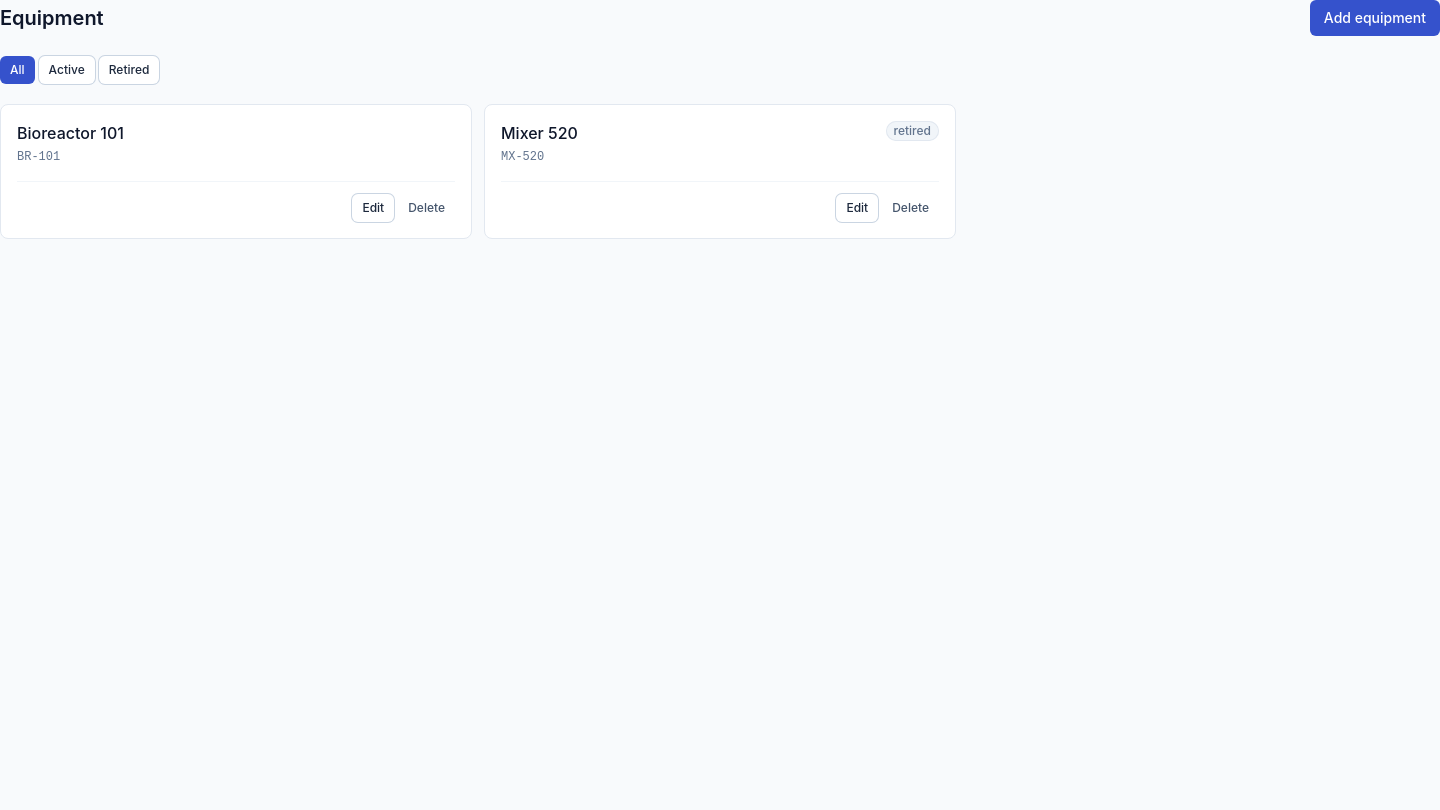
Test: EquipmentListPage › creates equipment and refreshes the list
Expected: the link "Bioreactor 101" is shown, [17,121,124,145]
Step 1. Click the button "Add equipment" → (1375, 18), box [1310,0,1439,36]
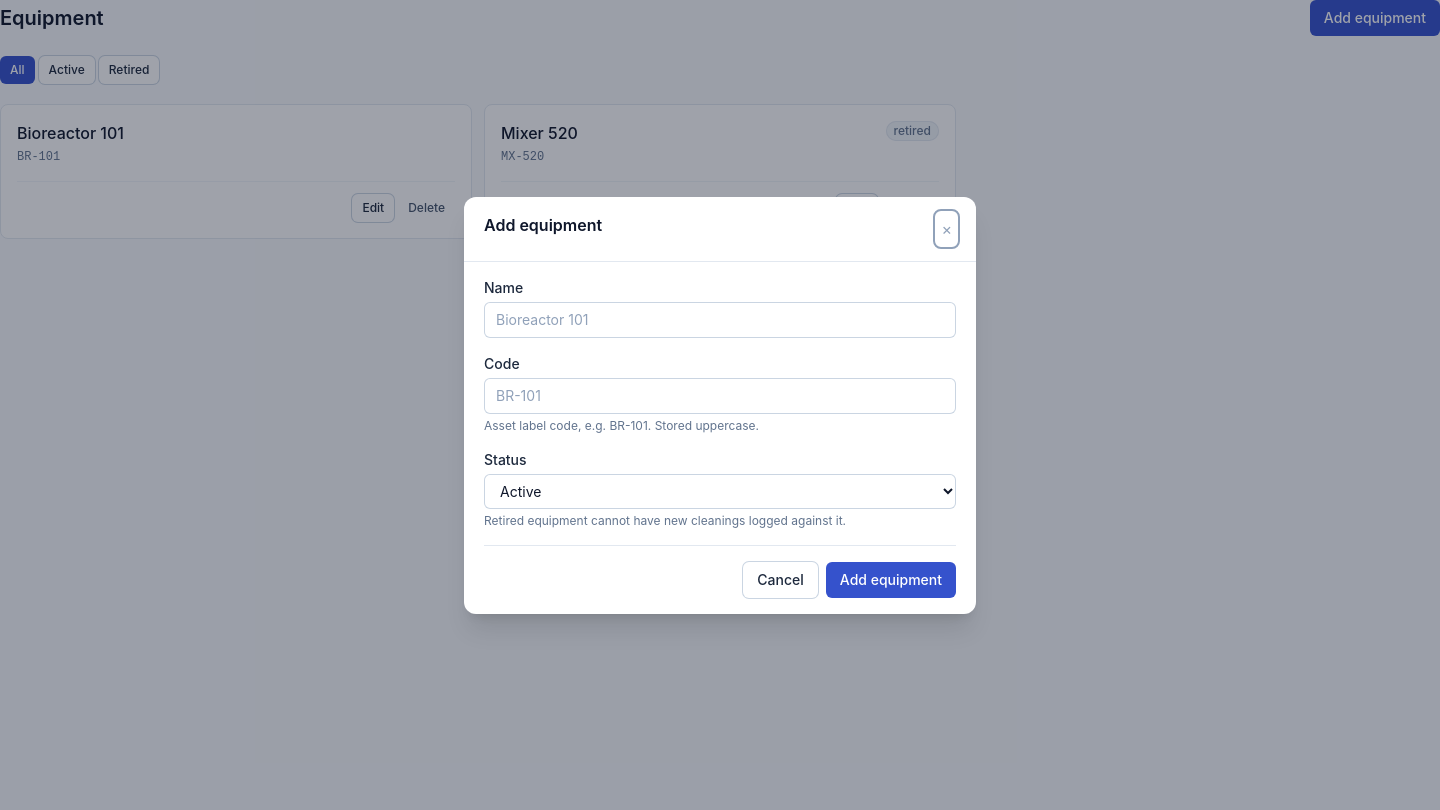
Step 2. Type "Centrifuge 200" into the field labelled "Name" → (720, 320), box [484,302,956,338]
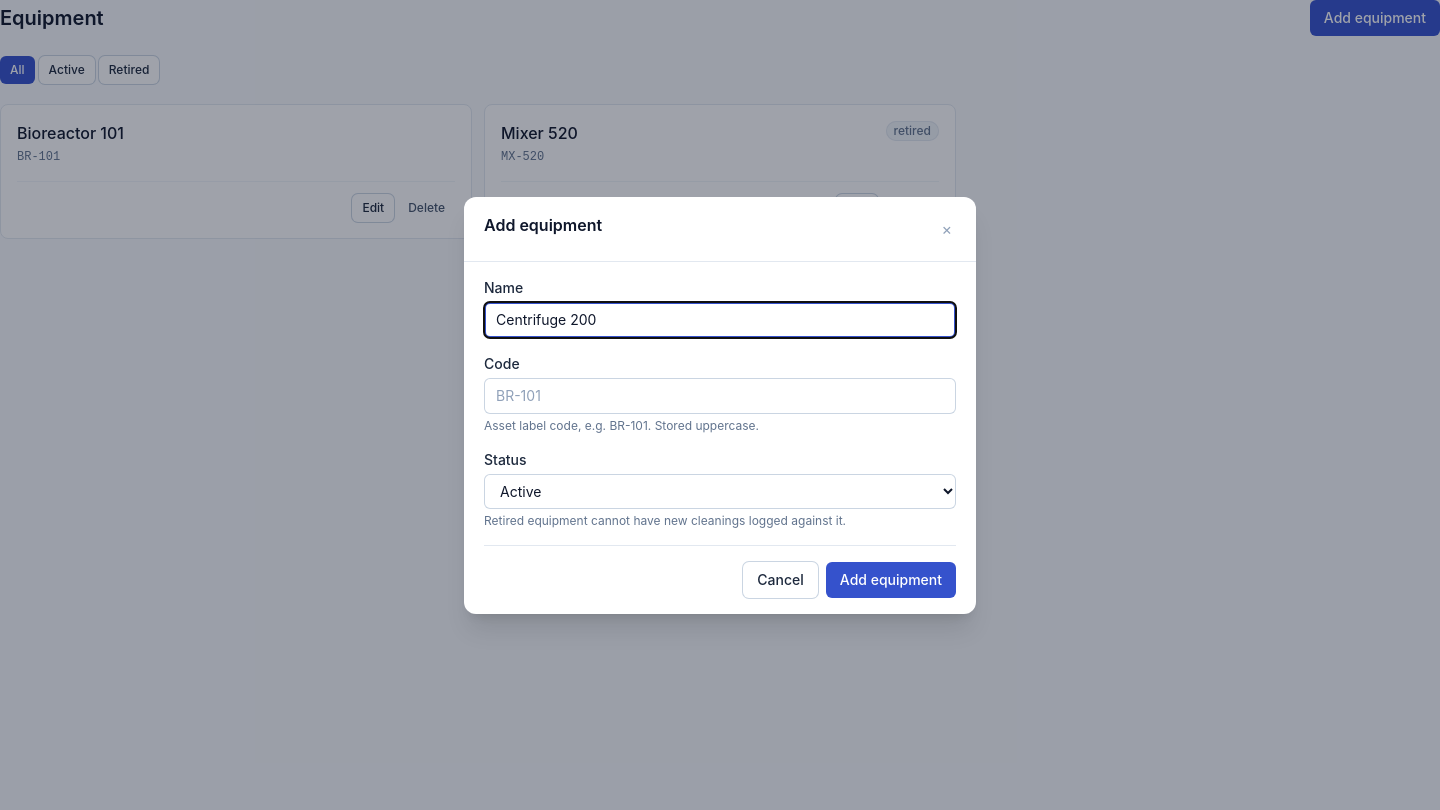
// Typed lowercase deliberately: the schema uppercases it before sending.
Step 3. Type "cf-200" into the field labelled "Code" → (720, 396), box [484,378,956,414]
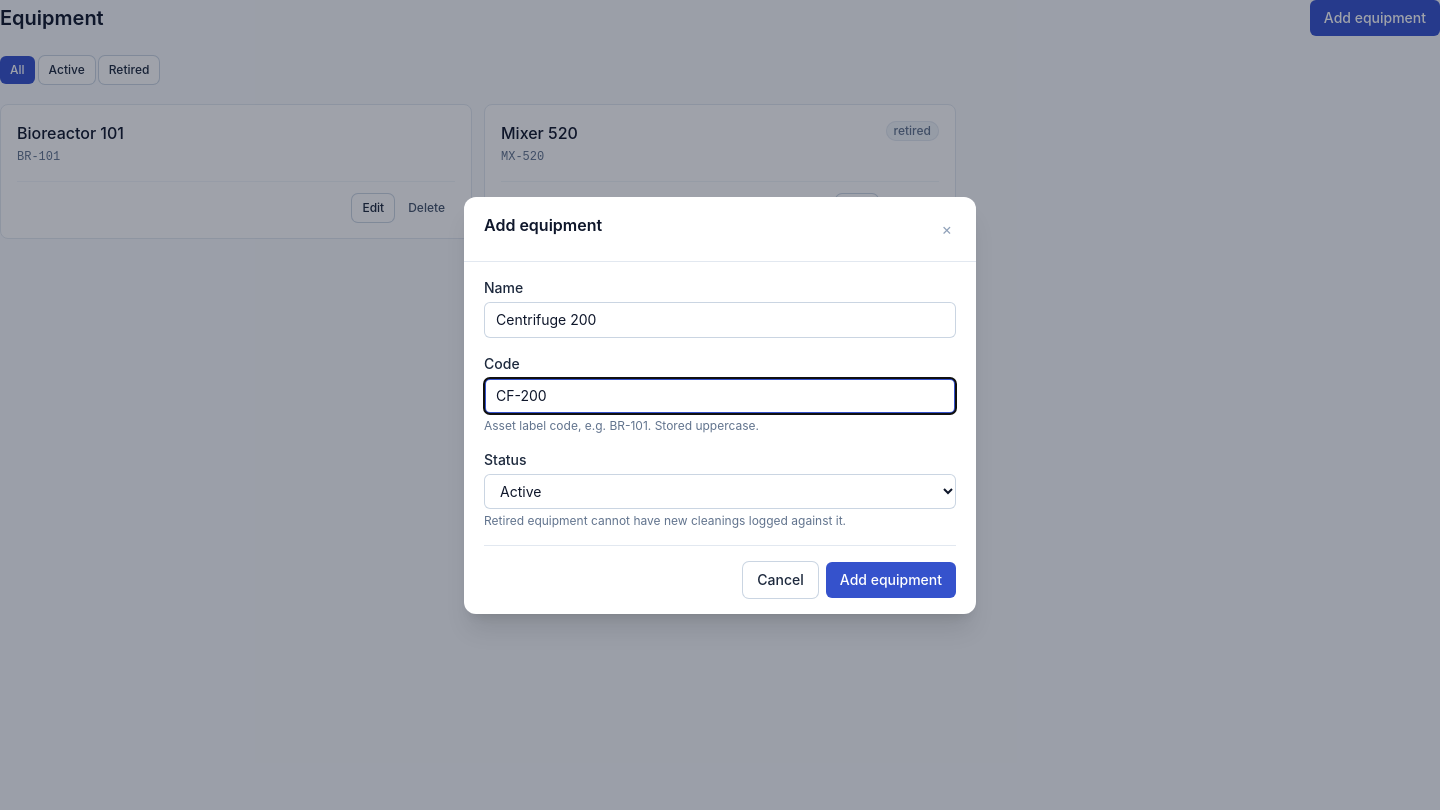
// Scoped to the dialog: the page header carries a button with the same name.
Step 4. Click the button "Add equipment" → (891, 580), box [826,562,956,598]
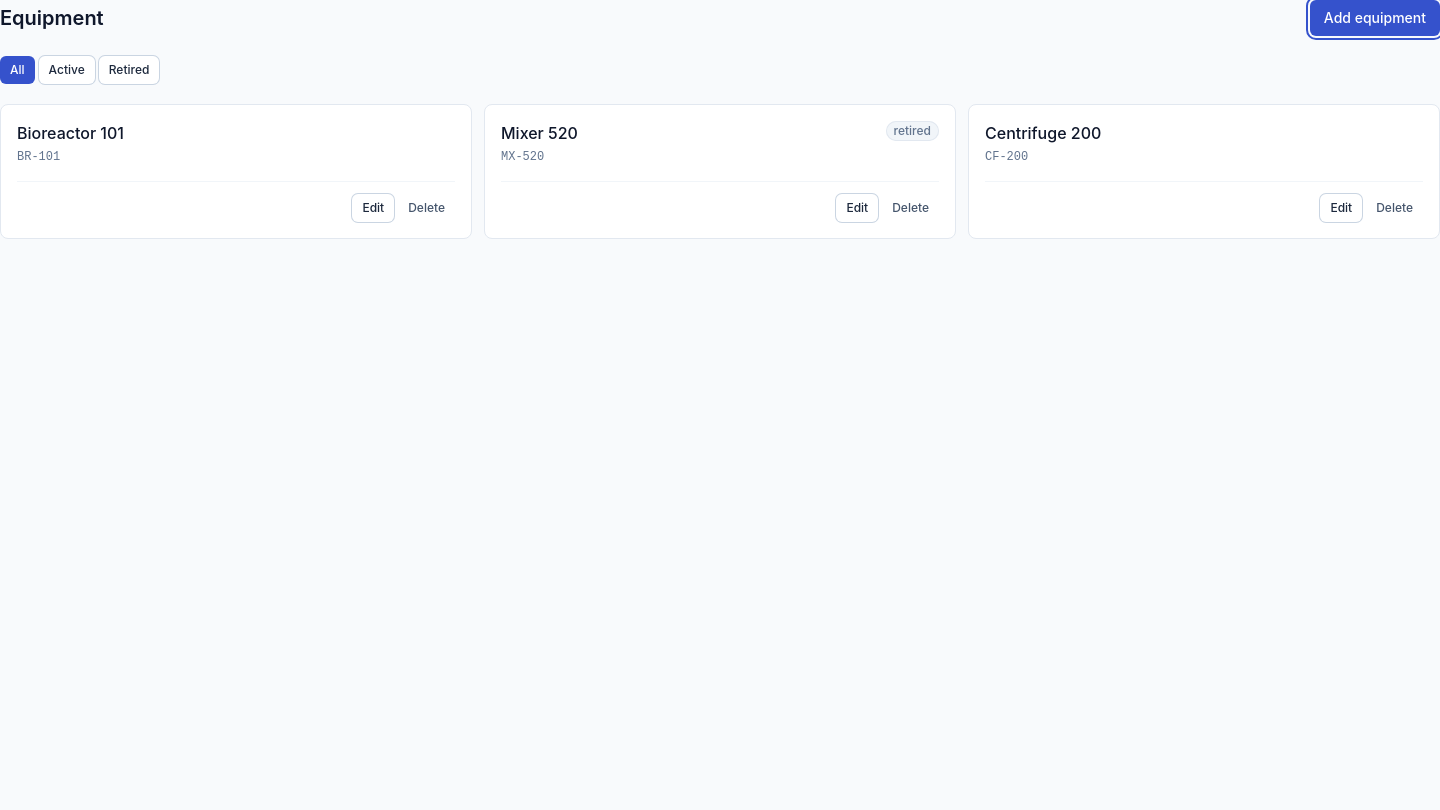
Expected: the link "Centrifuge 200" is shown, [985,121,1101,145]
